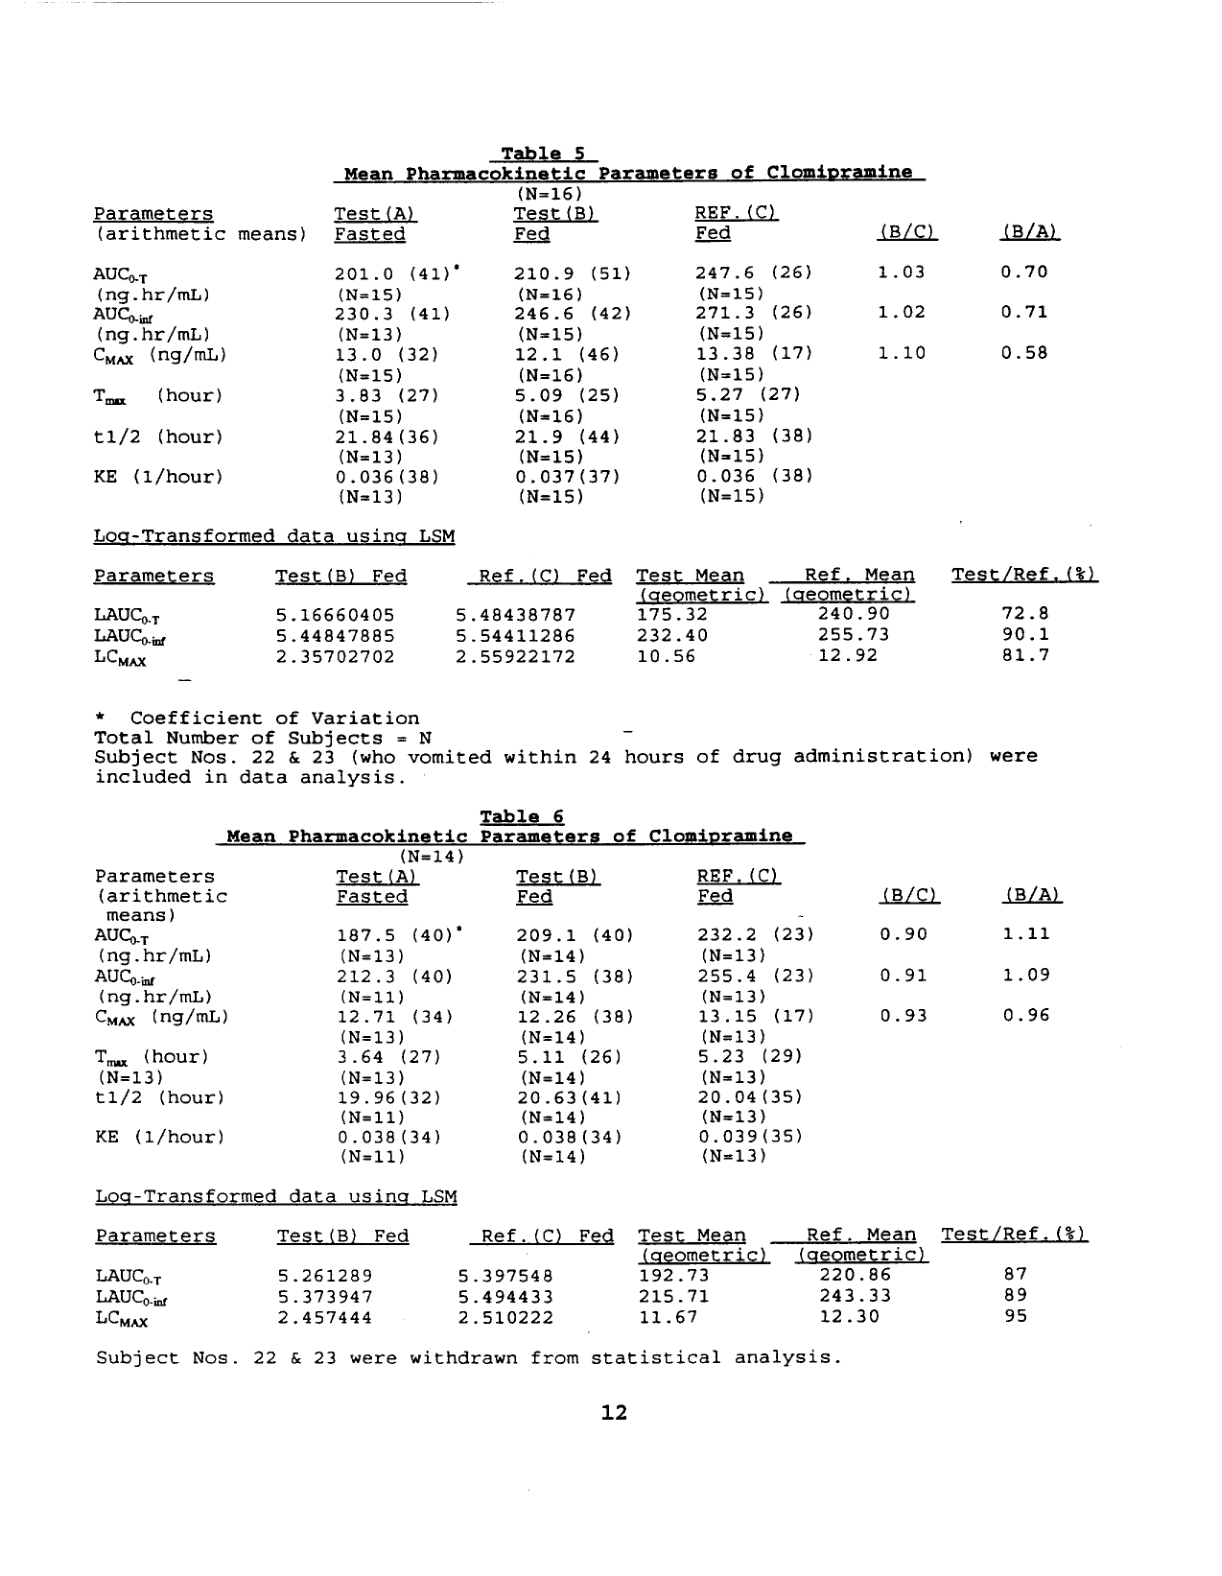nolines: (91, 200, 1059, 504), (92, 866, 1063, 1164), (91, 564, 1099, 666), (91, 1225, 1089, 1328)
